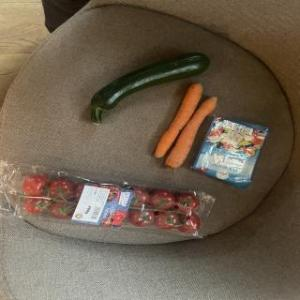carrot: (159, 92, 228, 176), (147, 82, 215, 163)
tomato: (14, 167, 216, 241)
zucchini: (81, 51, 218, 133)
